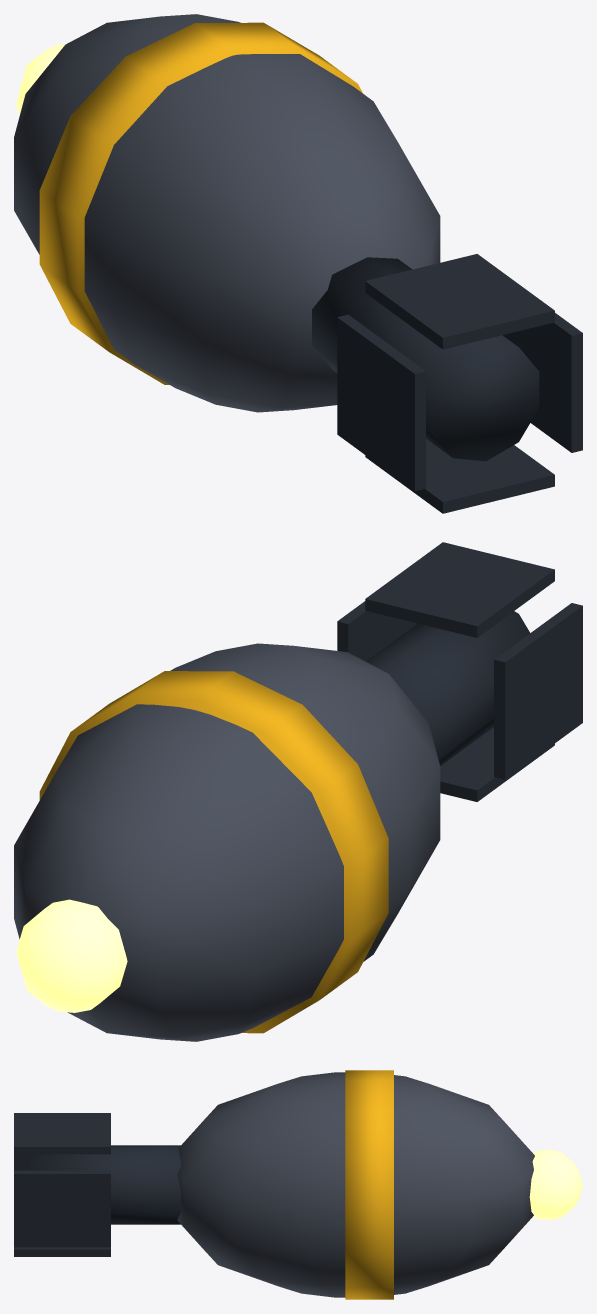
File: Mortar.fbx
3 renders of one model, top to bottom at view 1: azimuth 30°, elevation 25°; view 2: azimuth 150°, elevation 25°; view 3: azimuth 270°, elevation 25°, orthographic. The views are drawn at different scales.
Parts seen in each view (by area): view 1: Bomb_Body0, Hazard_Band0.002, Metal_Tail0, Metal_Fin2.001, Metal_Fin1.001, Metal_Fin0.001, Metal_Fin3.001, Emit_Fuse0.001; view 2: Bomb_Body0, Hazard_Band0.002, Metal_Tail0, Metal_Fin2.001, Metal_Fin1.001, Emit_Fuse0.001, Metal_Fin3.001, Metal_Fin0.001; view 3: Bomb_Body0, Hazard_Band0.002, Metal_Fin0.001, Metal_Tail0, Metal_Fin1.001, Emit_Fuse0.001, Metal_Fin3.001.
Part boxes in pixels (x1,y1,x2,y2): Bomb_Body0: (14, 14, 440, 412); Hazard_Band0.002: (39, 22, 362, 384); Metal_Tail0: (312, 257, 539, 461); Metal_Fin2.001: (337, 314, 425, 491); Metal_Fin1.001: (365, 254, 554, 349); Metal_Fin0.001: (502, 313, 582, 452); Metal_Fin3.001: (365, 438, 554, 513); Emit_Fuse0.001: (16, 43, 66, 115); Bomb_Body0: (14, 643, 440, 1041); Hazard_Band0.002: (39, 671, 388, 1033); Metal_Tail0: (366, 611, 529, 765); Metal_Fin2.001: (494, 603, 582, 779); Metal_Fin1.001: (365, 542, 554, 637); Emit_Fuse0.001: (16, 899, 127, 1012); Metal_Fin3.001: (440, 727, 554, 801); Metal_Fin0.001: (337, 601, 417, 661); Bomb_Body0: (177, 1072, 534, 1297); Hazard_Band0.002: (345, 1070, 393, 1299); Metal_Fin0.001: (14, 1170, 110, 1247); Metal_Tail0: (30, 1145, 181, 1224); Metal_Fin1.001: (14, 1113, 110, 1154); Emit_Fuse0.001: (529, 1150, 582, 1219); Metal_Fin3.001: (14, 1247, 110, 1256).
Size of the model in its own units: 0.1384 by 0.352 by 0.142.
